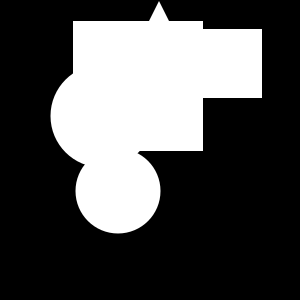circle: (73, 21, 203, 151), (193, 29, 262, 98)
rectangle: (51, 64, 154, 168), (76, 149, 160, 234)
triangle: (112, 1, 206, 95)
